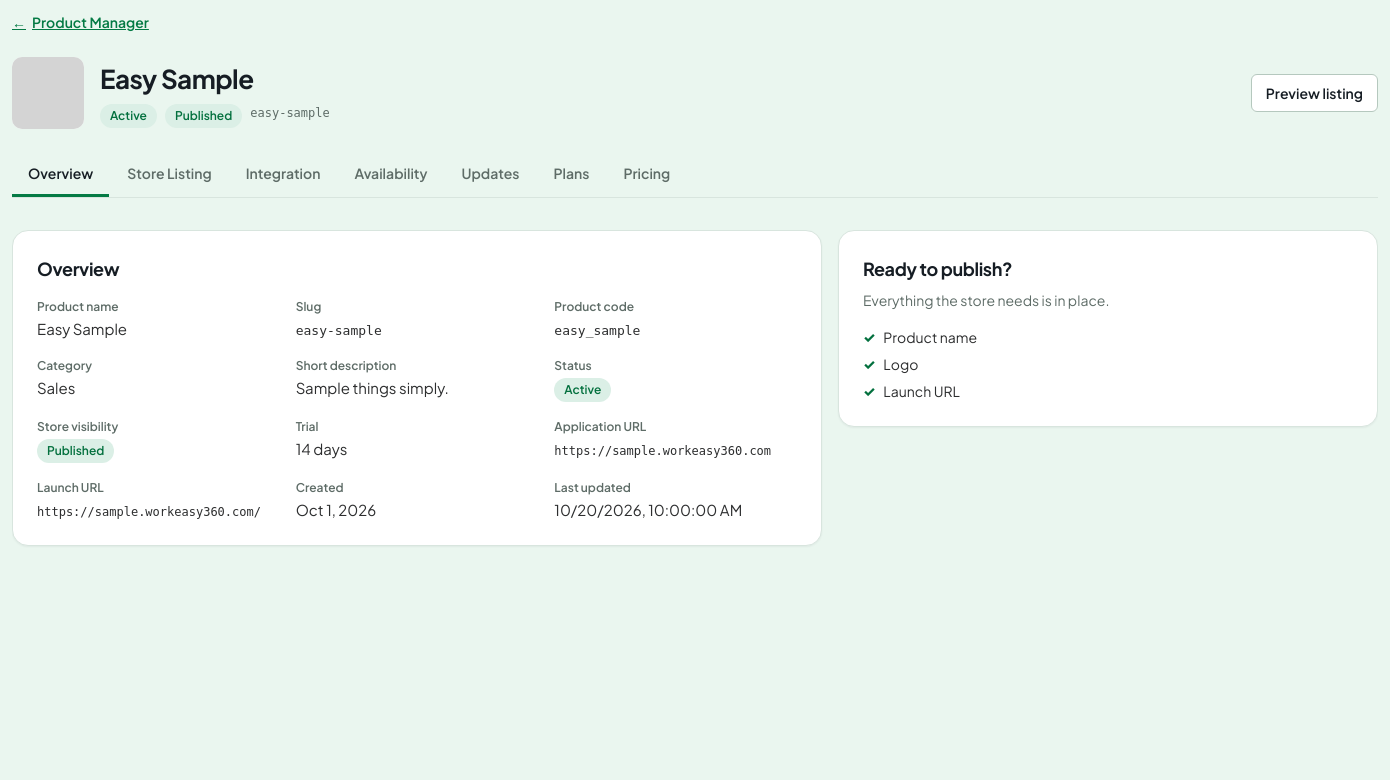
Test case: Product detail › without the audit grant there is no Activity tab; a viewer cannot edit
The width and height of the screenshot is (1390, 780).
Expected: the heading "Easy Sample" is shown, [100, 62, 254, 94]
Click the tab "Store Listing" at (169,175), box [111, 153, 228, 197]
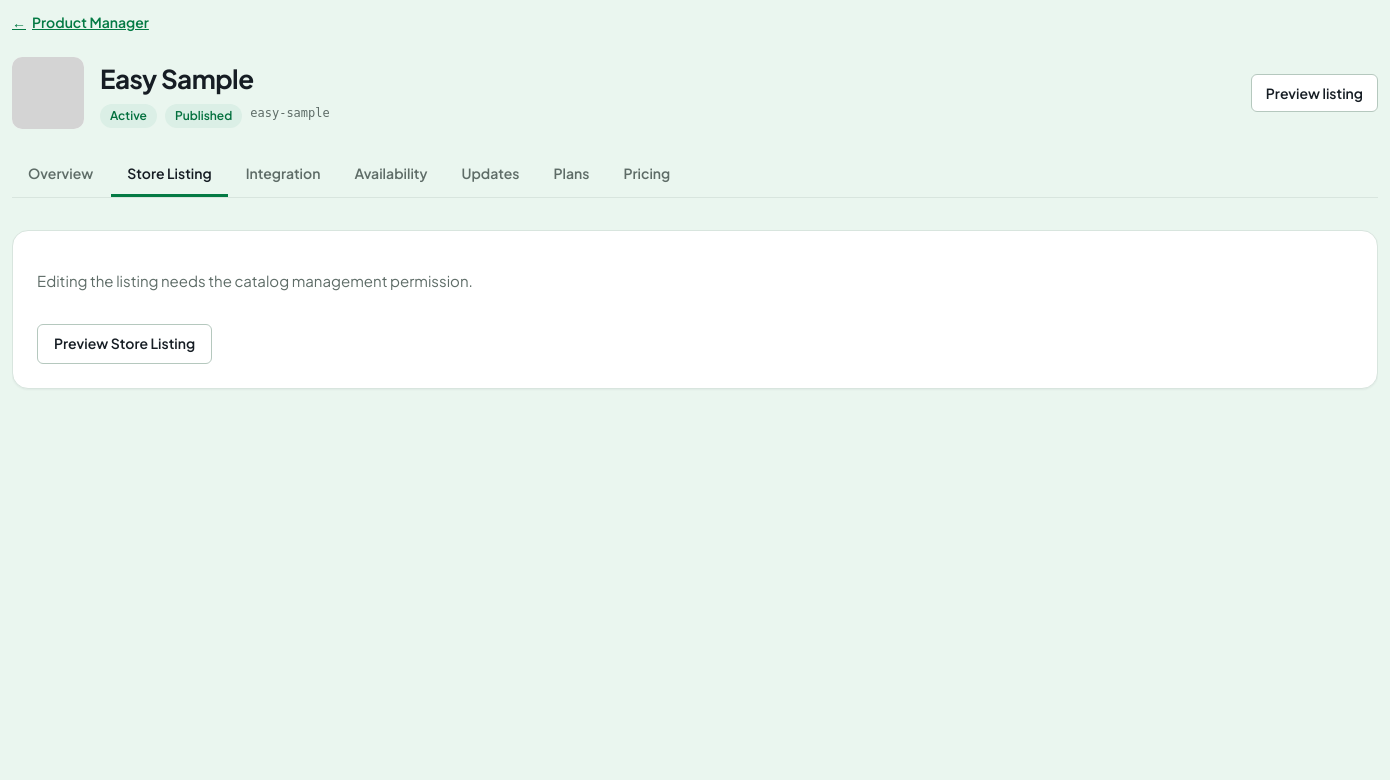
Now the text "Editing the listing needs the catalog management permission." is shown, box [37, 271, 473, 290]
